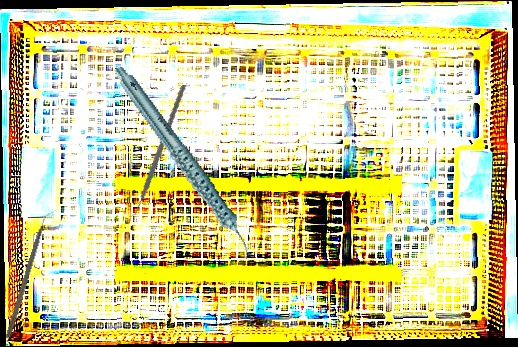Chopper: (100, 84, 209, 219), (5, 207, 57, 341)
Handpiece: (112, 47, 255, 279)
